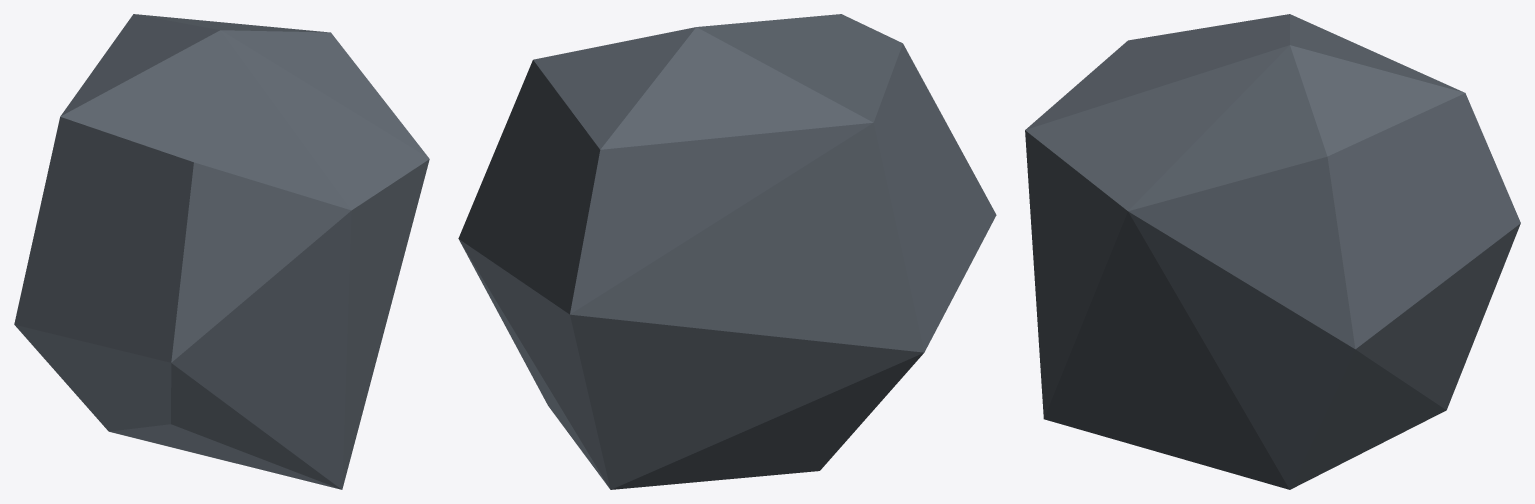
The model's file is Rock-A13.fbx.
3 renders of one model, left to right at view 1: azimuth 30°, elevation 25°; view 2: azimuth 150°, elevation 25°; view 3: azimuth 270°, elevation 25°, orthographic. The views are drawn at different scales.
Parts seen in each view (by area): view 1: Rock-A13; view 2: Rock-A13; view 3: Rock-A13.
Part boxes in pixels (x1,y1,x2,y2): Rock-A13: [14, 14, 429, 489]; Rock-A13: [458, 14, 996, 489]; Rock-A13: [1025, 14, 1520, 489].
Size of the model in its own units: 52.8 by 48.66 by 57.74.
